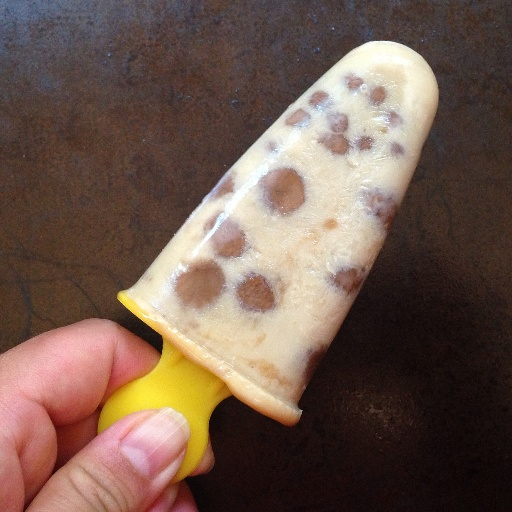hand: (0, 302, 249, 505)
